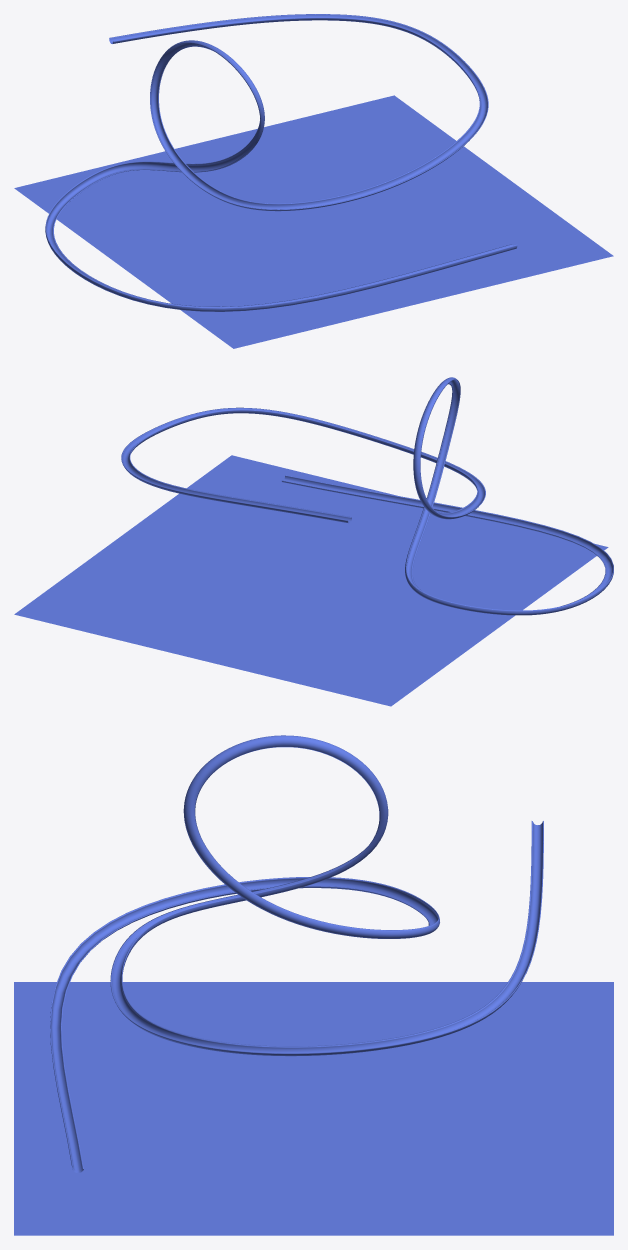
The model's file is terrainV2.glb.
3 views of the same model, one above another, from view 1: azimuth 30°, elevation 25°; view 2: azimuth 150°, elevation 25°; view 3: azimuth 270°, elevation 25° (orthographic). The views are drawn at different scales.
Parts seen in each view (by area): view 1: Terrain; view 2: Terrain; view 3: Terrain.
Boxes of the visible parts, <box> form: Terrain: <box>14,14,613,348</box>; Terrain: <box>14,377,613,706</box>; Terrain: <box>14,735,613,1235</box>.
Size of the model in its own units: 1196 by 540 by 997.
